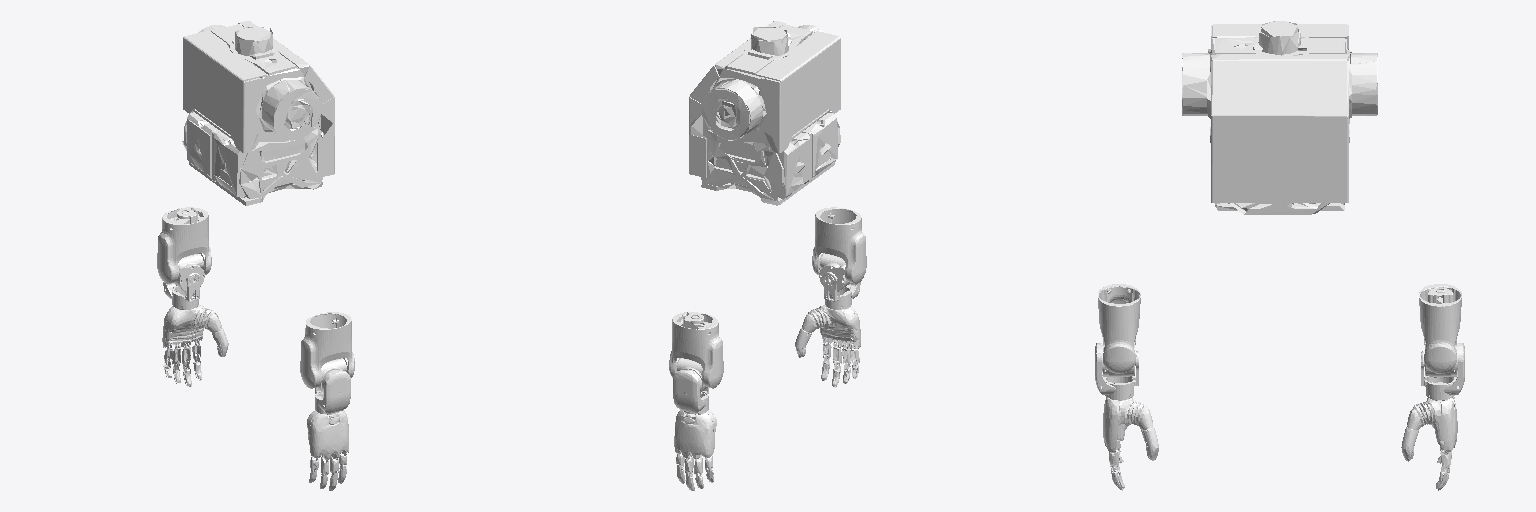
robot.urdf — biped_s45:
<?xml version='1.0' encoding='utf-8'?>
<robot name="biped_s45">
  <mujoco>
    <compiler meshdir="../meshes/" balanceinertia="true" discardvisual="false" />
  </mujoco>
  <link name="base_link">
    <inertial>
      <origin xyz="-0.05314994 9.11e-06 -0.01641695" rpy="0 0 0" />
      <mass value="5.8663837" />
      <inertia ixx="0.05525329" ixy="-2.8e-05" ixz="-0.01574835" iyy="0.04625376" iyz="1.212e-05" izz="0.05615769" />
    </inertial>
    <visual>
      <origin xyz="0 0 0" rpy="0 0 0" />
      <geometry>
        <mesh filename="../../meshes/torso.STL" />
      </geometry>
      <material name="">
        <color rgba="1 1 1 1" />
      </material>
    </visual>
    <!-- <collision>
      <origin xyz="0 0 0" rpy="0 0 0" />
      <geometry>
        <mesh filename="../../meshes/torso.STL" />
      </geometry>
    </collision> -->
  </link>
  <link name="waist_yaw">
    <inertial>
      <origin xyz="0.00052643 -0.00072999 0.14211467" rpy="0 0 0" />
      <mass value="15.18745152" />
      <inertia ixx="0.22034662" ixy="0.0001736" ixz="0.00293947" iyy="0.1532304" iyz="0.00123948" izz="0.16566744" />
    </inertial>
    <visual>
      <origin xyz="0 0 0" rpy="0 0 0" />
      <geometry>
        <mesh filename="../../meshes/waist_yaw.STL" />
      </geometry>
      <material name="">
        <color rgba="1 1 1 1" />
      </material>
    </visual>
  </link>
  <joint name="waist_yaw" type="fixed">
    <origin xyz="0 0 0.107" rpy="0 0 0" />
    <parent link="base_link" />
    <child link="waist_yaw" />
    <axis xyz="0 0 1" />
    <limit lower="-0.314159265358979" upper="0.663225115757845" effort="180.0" velocity="23.55" />
  </joint>
  <link name="zarm_l1_link">
    <inertial>
      <origin xyz="-0.00083 -0.02218 0.00035" rpy="0 0 0" />
      <mass value="0.962" />
      <inertia ixx="0.00225" ixy="-3e-05" ixz="0.0" iyy="0.00099" iyz="-2e-05" izz="0.00227" />
    </inertial>
    <visual>
      <origin xyz="0 0 0" rpy="0 0 0" />
      <geometry>
        <mesh filename="../../meshes/l_arm_pitch.STL" />
      </geometry>
      <material name="">
        <color rgba="1 1 1 1" />
      </material>
    </visual>
  </link>
  <joint name="zarm_l1_joint" type="revolute">
    <origin xyz="0.003 0.28569999999999995 0.2055" rpy="0 0 0" />
    <parent link="waist_yaw" />
    <child link="zarm_l1_link" />
    <axis xyz="0 1 0" />
    <limit lower="-3.14159265358979" upper="1.5707963267949" effort="100.0" velocity="41.3433333333333" />
    <dynamics damping="0.2" friction="0.1" />
  </joint>
  <transmission type="SimpleTransmission">
    <joint name="zarm_l1_joint" />
    <actuator name="zarm_l1_joint_motor" />
  </transmission>
  <link name="zarm_l2_link">
    <inertial>
      <origin xyz="-0.00791 0.0 -0.04655" rpy="0 0 0" />
      <mass value="0.57" />
      <inertia ixx="0.00163" ixy="0.0" ixz="5e-05" iyy="0.00211" iyz="0.0" izz="0.00122" />
    </inertial>
    <visual>
      <origin xyz="0 0 0" rpy="0 0 0" />
      <geometry>
        <mesh filename="../../meshes/l_arm_roll.STL" />
      </geometry>
      <material name="">
        <color rgba="1 1 1 1" />
      </material>
    </visual>
  </link>
  <joint name="zarm_l2_joint" type="revolute">
    <origin xyz="0 0 0" rpy="0 0 0" />
    <parent link="zarm_l1_link" />
    <child link="zarm_l2_link" />
    <axis xyz="1 0 0" />
    <limit lower="-0.349065850398866" upper="2.0943951023932" effort="50.0" velocity="19.154" />
    <dynamics damping="0.2" friction="0.1" />
  </joint>
  <transmission type="SimpleTransmission">
    <joint name="zarm_l2_joint" />
    <actuator name="zarm_l2_joint_motor" />
  </transmission>
  <link name="zarm_l3_link">
    <inertial>
      <origin xyz="0.00628 0.00107 -0.20878" rpy="0 0 0" />
      <mass value="1.65" />
      <inertia ixx="0.00815" ixy="-4e-05" ixz="0.00085" iyy="0.00828" iyz="0.00014" izz="0.00206" />
    </inertial>
    <visual>
      <origin xyz="0 0 0" rpy="0 0 0" />
      <geometry>
        <mesh filename="../../meshes/l_arm_yaw.STL" />
      </geometry>
      <material name="">
        <color rgba="1 1 1 1" />
      </material>
    </visual>
  </link>
  <joint name="zarm_l3_joint" type="revolute">
    <origin xyz="0 0 0" rpy="0 0 0" />
    <parent link="zarm_l2_link" />
    <child link="zarm_l3_link" />
    <axis xyz="0 0 1" />
    <limit lower="-1.5707963267949" upper="1.5707963267949" effort="39.0" velocity="18.84" />
    <dynamics damping="0.2" friction="0.1" />
  </joint>
  <transmission type="SimpleTransmission">
    <joint name="zarm_l3_joint" />
    <actuator name="zarm_l3_joint_motor" />
  </transmission>
  <link name="zarm_l4_link">
    <inertial>
      <origin xyz="-0.01611 0.00143 -0.04857" rpy="0 0 0" />
      <mass value="0.429" />
      <inertia ixx="0.00135" ixy="0.0" ixz="-0.0001" iyy="0.00114" iyz="0.0" izz="0.00083" />
    </inertial>
    <visual>
      <origin xyz="0 0 0" rpy="0 0 0" />
      <geometry>
        <mesh filename="../../meshes/l_forearm.STL" />
      </geometry>
      <material name="">
        <color rgba="1 1 1 1" />
      </material>
    </visual>
  </link>
  <joint name="zarm_l4_joint" type="revolute">
    <origin xyz="0.0200000000000006 0 -0.283699999999996" rpy="0 0 0" />
    <parent link="zarm_l3_link" />
    <child link="zarm_l4_link" />
    <axis xyz="0 1 0" />
    <limit lower="-2.61799387799149" upper="0.0" effort="50.0" velocity="18.84" />
    <dynamics damping="0.2" friction="0.1" />
  </joint>
  <transmission type="SimpleTransmission">
    <joint name="zarm_l4_joint" />
    <actuator name="zarm_l4_joint_motor" />
  </transmission>
  <link name="zarm_l5_link">
    <inertial>
      <origin xyz="-0.00207 0.00018 -0.05079" rpy="0 0 0" />
      <mass value="0.61" />
      <inertia ixx="0.00107" ixy="0.0" ixz="-4e-05" iyy="0.00146" iyz="0.0" izz="0.00083" />
    </inertial>
    <visual>
      <origin xyz="0 0 0" rpy="0 0 0" />
      <geometry>
        <mesh filename="../../meshes/l_hand_yaw.STL" />
      </geometry>
      <material name="">
        <color rgba="1 1 1 1" />
      </material>
    </visual>
  </link>
  <joint name="zarm_l5_joint" type="revolute">
    <origin xyz="-0.0200000000000025 0 -0.127037274261591" rpy="0 0 0" />
    <parent link="zarm_l4_link" />
    <child link="zarm_l5_link" />
    <axis xyz="0 0 1" />
    <limit lower="-1.5707963267949" upper="1.5707963267949" effort="12.0" velocity="21.666" />
    <dynamics damping="0.2" friction="0.1" />
  </joint>
  <transmission type="SimpleTransmission">
    <joint name="zarm_l5_joint" />
    <actuator name="zarm_l5_joint_motor" />
  </transmission>
  <link name="zarm_l6_link">
    <inertial>
      <origin xyz="-0.00111 0.00335 -0.01335" rpy="0 0 0" />
      <mass value="0.331" />
      <inertia ixx="0.00022" ixy="0.0" ixz="0.0" iyy="0.00027" iyz="0.0" izz="0.00028" />
    </inertial>
    <visual>
      <origin xyz="0 0 0" rpy="0 0 0" />
      <geometry>
        <mesh filename="../../meshes/l_hand_roll.STL" />
      </geometry>
      <material name="">
        <color rgba="1 1 1 1" />
      </material>
    </visual>
  </link>
  <joint name="zarm_l6_joint" type="revolute">
    <origin xyz="0.000199999999999079 0 -0.106462725738415" rpy="0 0 0" />
    <parent link="zarm_l5_link" />
    <child link="zarm_l6_link" />
    <axis xyz="1 0 0" />
    <limit lower="-1.30899693899575" upper="0.698131700797732" effort="12.0" velocity="21.666" />
    <dynamics damping="0.2" friction="0.1" />
  </joint>
  <transmission type="SimpleTransmission">
    <joint name="zarm_l6_joint" />
    <actuator name="zarm_l6_joint_motor" />
  </transmission>
  <link name="zarm_l7_link">
    <inertial>
      <origin xyz="0.00186 0.01014 -0.09044" rpy="0 0 0" />
      <mass value="0.64" />
      <inertia ixx="0.00071" ixy="1e-05" ixz="2e-05" iyy="0.0007" iyz="-4e-05" izz="0.00012" />
    </inertial>
    <visual>
      <origin xyz="0 0 0" rpy="0 0 0" />
      <geometry>
        <mesh filename="../../meshes/l_hand_pitch.STL" />
      </geometry>
      <material name="">
        <color rgba="1 1 1 1" />
      </material>
    </visual>
  </link>
  <joint name="zarm_l7_joint" type="revolute">
    <origin xyz="0 0 -0.0210004653879916" rpy="0 0 0" />
    <parent link="zarm_l6_link" />
    <child link="zarm_l7_link" />
    <axis xyz="0 1 0" />
    <limit lower="-0.698131700797732" upper="0.698131700797732" effort="12.0" velocity="21.666" />
    <dynamics damping="0.2" friction="0.1" />
  </joint>
  <transmission type="SimpleTransmission">
    <joint name="zarm_l7_joint" />
    <actuator name="zarm_l7_joint_motor" />
  </transmission>
  <link name="zarm_r1_link">
    <inertial>
      <origin xyz="-0.00083 0.02218 0.00035" rpy="0 0 0" />
      <mass value="0.962" />
      <inertia ixx="0.00225" ixy="3e-05" ixz="0.0" iyy="0.00099" iyz="2e-05" izz="0.00227" />
    </inertial>
    <visual>
      <origin xyz="0 0 0" rpy="0 0 0" />
      <geometry>
        <mesh filename="../../meshes/r_arm_pitch.STL" />
      </geometry>
      <material name="">
        <color rgba="1 1 1 1" />
      </material>
    </visual>
  </link>
  <joint name="zarm_r1_joint" type="revolute">
    <origin xyz="0.003 -0.28569999999999995 0.2055" rpy="0 0 0" />
    <parent link="waist_yaw" />
    <child link="zarm_r1_link" />
    <axis xyz="0 1 0" />
    <limit lower="-3.14159265358979" upper="1.5707963267949" effort="100.0" velocity="41.3433333333333" />
    <dynamics damping="0.2" friction="0.1" />
  </joint>
  <transmission type="SimpleTransmission">
    <joint name="zarm_r1_joint" />
    <actuator name="zarm_r1_joint_motor" />
  </transmission>
  <link name="zarm_r2_link">
    <inertial>
      <origin xyz="-0.00791 0.0 -0.04655" rpy="0 0 0" />
      <mass value="0.57" />
      <inertia ixx="0.00163" ixy="0.0" ixz="5e-05" iyy="0.00211" iyz="0.0" izz="0.00122" />
    </inertial>
    <visual>
      <origin xyz="0 0 0" rpy="0 0 0" />
      <geometry>
        <mesh filename="../../meshes/r_arm_roll.STL" />
      </geometry>
      <material name="">
        <color rgba="1 1 1 1" />
      </material>
    </visual>
  </link>
  <joint name="zarm_r2_joint" type="revolute">
    <origin xyz="0 0 0" rpy="0 0 0" />
    <parent link="zarm_r1_link" />
    <child link="zarm_r2_link" />
    <axis xyz="1 0 0" />
    <limit lower="-2.0943951023932" upper="0.349065850398866" effort="50.0" velocity="19.154" />
    <dynamics damping="0.2" friction="0.1" />
  </joint>
  <transmission type="SimpleTransmission">
    <joint name="zarm_r2_joint" />
    <actuator name="zarm_r2_joint_motor" />
  </transmission>
  <link name="zarm_r3_link">
    <inertial>
      <origin xyz="0.00628 -0.00107 -0.20878" rpy="0 0 0" />
      <mass value="1.65" />
      <inertia ixx="0.00815" ixy="4e-05" ixz="0.00085" iyy="0.00828" iyz="-0.00014" izz="0.00206" />
    </inertial>
    <visual>
      <origin xyz="0 0 0" rpy="0 0 0" />
      <geometry>
        <mesh filename="../../meshes/r_arm_yaw.STL" />
      </geometry>
      <material name="">
        <color rgba="1 1 1 1" />
      </material>
    </visual>
  </link>
  <joint name="zarm_r3_joint" type="revolute">
    <origin xyz="0 0 0" rpy="0 0 0" />
    <parent link="zarm_r2_link" />
    <child link="zarm_r3_link" />
    <axis xyz="0 0 1" />
    <limit lower="-1.5707963267949" upper="1.5707963267949" effort="39.0" velocity="18.84" />
    <dynamics damping="0.2" friction="0.1" />
  </joint>
  <transmission type="SimpleTransmission">
    <joint name="zarm_r3_joint" />
    <actuator name="zarm_r3_joint_motor" />
  </transmission>
  <link name="zarm_r4_link">
    <inertial>
      <origin xyz="-0.01611 -0.00143 -0.04857" rpy="0 0 0" />
      <mass value="0.429" />
      <inertia ixx="0.00135" ixy="0.0" ixz="-0.0001" iyy="0.00114" iyz="0.0" izz="0.00083" />
    </inertial>
    <visual>
      <origin xyz="0 0 0" rpy="0 0 0" />
      <geometry>
        <mesh filename="../../meshes/r_forearm.STL" />
      </geometry>
      <material name="">
        <color rgba="1 1 1 1" />
      </material>
    </visual>
  </link>
  <joint name="zarm_r4_joint" type="revolute">
    <origin xyz="0.0200000000000024 0 -0.2837" rpy="0 0 0" />
    <parent link="zarm_r3_link" />
    <child link="zarm_r4_link" />
    <axis xyz="0 1 0" />
    <limit lower="-2.61799387799149" upper="0.0" effort="50.0" velocity="18.84" />
    <dynamics damping="0.2" friction="0.1" />
  </joint>
  <transmission type="SimpleTransmission">
    <joint name="zarm_r4_joint" />
    <actuator name="zarm_r4_joint_motor" />
  </transmission>
  <link name="zarm_r5_link">
    <inertial>
      <origin xyz="-0.00207 -0.00018 -0.05079" rpy="0 0 0" />
      <mass value="0.61" />
      <inertia ixx="0.00107" ixy="0.0" ixz="-4e-05" iyy="0.00146" iyz="0.0" izz="0.00083" />
    </inertial>
    <visual>
      <origin xyz="0 0 0" rpy="0 0 0" />
      <geometry>
        <mesh filename="../../meshes/r_hand_yaw.STL" />
      </geometry>
      <material name="">
        <color rgba="1 1 1 1" />
      </material>
    </visual>
  </link>
  <joint name="zarm_r5_joint" type="revolute">
    <origin xyz="-0.0200000000000001 0 -0.127037274261587" rpy="0 0 0" />
    <parent link="zarm_r4_link" />
    <child link="zarm_r5_link" />
    <axis xyz="0 0 1" />
    <limit lower="-1.5707963267949" upper="1.5707963267949" effort="12.0" velocity="21.666" />
    <dynamics damping="0.2" friction="0.1" />
  </joint>
  <transmission type="SimpleTransmission">
    <joint name="zarm_r5_joint" />
    <actuator name="zarm_r5_joint_motor" />
  </transmission>
  <link name="zarm_r6_link">
    <inertial>
      <origin xyz="-0.00111 -0.00335 -0.01335" rpy="0 0 0" />
      <mass value="0.331" />
      <inertia ixx="0.00022" ixy="0.0" ixz="0.0" iyy="0.00027" iyz="0.0" izz="0.00028" />
    </inertial>
    <visual>
      <origin xyz="0 0 0" rpy="0 0 0" />
      <geometry>
        <mesh filename="../../meshes/r_hand_roll.STL" />
      </geometry>
      <material name="">
        <color rgba="1 1 1 1" />
      </material>
    </visual>
  </link>
  <joint name="zarm_r6_joint" type="revolute">
    <origin xyz="0 0 -0.106462725738415" rpy="0 0 0" />
    <parent link="zarm_r5_link" />
    <child link="zarm_r6_link" />
    <axis xyz="1 0 0" />
    <limit lower="-0.698131700797732" upper="1.30899693899575" effort="12.0" velocity="21.666" />
    <dynamics damping="0.2" friction="0.1" />
  </joint>
  <transmission type="SimpleTransmission">
    <joint name="zarm_r6_joint" />
    <actuator name="zarm_r6_joint_motor" />
  </transmission>
  <link name="zarm_r7_link">
    <inertial>
      <origin xyz="0.00186 -0.01014 -0.09044" rpy="0 0 0" />
      <mass value="0.64" />
      <inertia ixx="0.00069" ixy="-1e-05" ixz="2e-05" iyy="0.00068" iyz="5e-05" izz="0.00012" />
    </inertial>
    <visual>
      <origin xyz="0 0 0" rpy="0 0 0" />
      <geometry>
        <mesh filename="../../meshes/r_hand_pitch.STL" />
      </geometry>
      <material name="">
        <color rgba="1 1 1 1" />
      </material>
    </visual>
  </link>
  <joint name="zarm_r7_joint" type="revolute">
    <origin xyz="0 0 -0.0209999999999999" rpy="0 0 0" />
    <parent link="zarm_r6_link" />
    <child link="zarm_r7_link" />
    <axis xyz="0 1 0" />
    <limit lower="-0.698131700797732" upper="0.698131700797732" effort="12.0" velocity="21.666" />
    <dynamics damping="0.2" friction="0.1" />
  </joint>
  <transmission type="SimpleTransmission">
    <joint name="zarm_r7_joint" />
    <actuator name="zarm_r7_joint_motor" />
  </transmission>
  </robot>

--- Render facts (derived) ---
Views: 3 orthographic renders of the robot side by side, from view 1: azimuth 30°, elevation 25°; view 2: azimuth 150°, elevation 25°; view 3: azimuth 270°, elevation 25°.
Robot: biped_s45 — 16 links, 15 joints (14 revolute, 1 fixed); root link base_link; default pose: all joints at 0.
Links seen in each view (by area): view 1: waist_yaw, zarm_l7_link, zarm_r7_link, zarm_l5_link, zarm_r5_link, zarm_l6_link; view 2: waist_yaw, zarm_r7_link, zarm_l7_link, zarm_r5_link, zarm_l5_link, zarm_r6_link; view 3: waist_yaw, zarm_l7_link, zarm_r7_link, zarm_l5_link, zarm_r5_link.
Boxes of the visible links, x1,y1,x2,y2 form: waist_yaw: [182, 21, 334, 205]; zarm_l7_link: [162, 273, 228, 386]; zarm_r7_link: [307, 370, 350, 490]; zarm_l5_link: [157, 207, 211, 283]; zarm_r5_link: [300, 312, 354, 388]; zarm_l6_link: [174, 253, 204, 291]; waist_yaw: [689, 21, 840, 205]; zarm_r7_link: [795, 272, 860, 387]; zarm_l7_link: [673, 370, 716, 490]; zarm_r5_link: [812, 207, 866, 283]; zarm_l5_link: [669, 311, 723, 388]; zarm_r6_link: [819, 253, 849, 291]; waist_yaw: [1182, 21, 1377, 214]; zarm_l7_link: [1401, 343, 1464, 490]; zarm_r7_link: [1095, 343, 1158, 490]; zarm_l5_link: [1419, 284, 1461, 373]; zarm_r5_link: [1098, 284, 1140, 373].
Bounding box of the posed robot: 0.2221 × 0.6587 × 0.9028 m (x, y, z).
7 mesh visuals loaded from 16 distinct referenced files (7 binary STL); not drawn: 9 (reference not matched to a file when rendering).